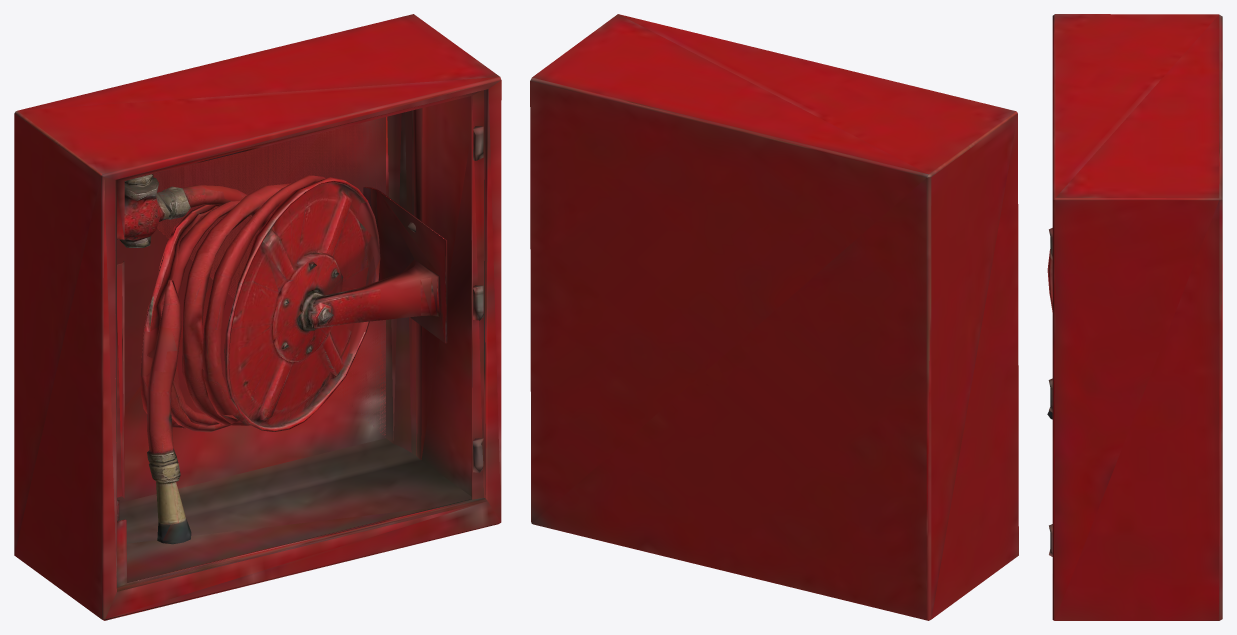
Rendered from p7-fire-hose-reel-cabinet-t25.glb.
The picture shows the model from 3 angles, left to right: view 1: azimuth 30°, elevation 25°; view 2: azimuth 150°, elevation 25°; view 3: azimuth 270°, elevation 25°; orthographic projection. The views are drawn at different scales.
Visible parts, largest first — view 1: p7-fire-hose-reel-cabinet-t25; view 2: p7-fire-hose-reel-cabinet-t25; view 3: p7-fire-hose-reel-cabinet-t25.
Boxes of the visible parts, bbox=[...] form: p7-fire-hose-reel-cabinet-t25: bbox=[14, 14, 501, 620]; p7-fire-hose-reel-cabinet-t25: bbox=[530, 14, 1018, 620]; p7-fire-hose-reel-cabinet-t25: bbox=[1047, 14, 1222, 620].
Size of the model in its own units: 0.75 by 0.8 by 0.3.
Materials: 1 (1 with a texture image).
